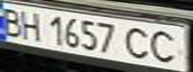1: (42, 12, 66, 46)
5: (78, 18, 100, 52)
6: (60, 16, 81, 50)
7: (96, 20, 121, 55)
B: (0, 4, 27, 37)
C: (145, 27, 187, 65), (121, 25, 154, 61)
H: (18, 8, 45, 42)
